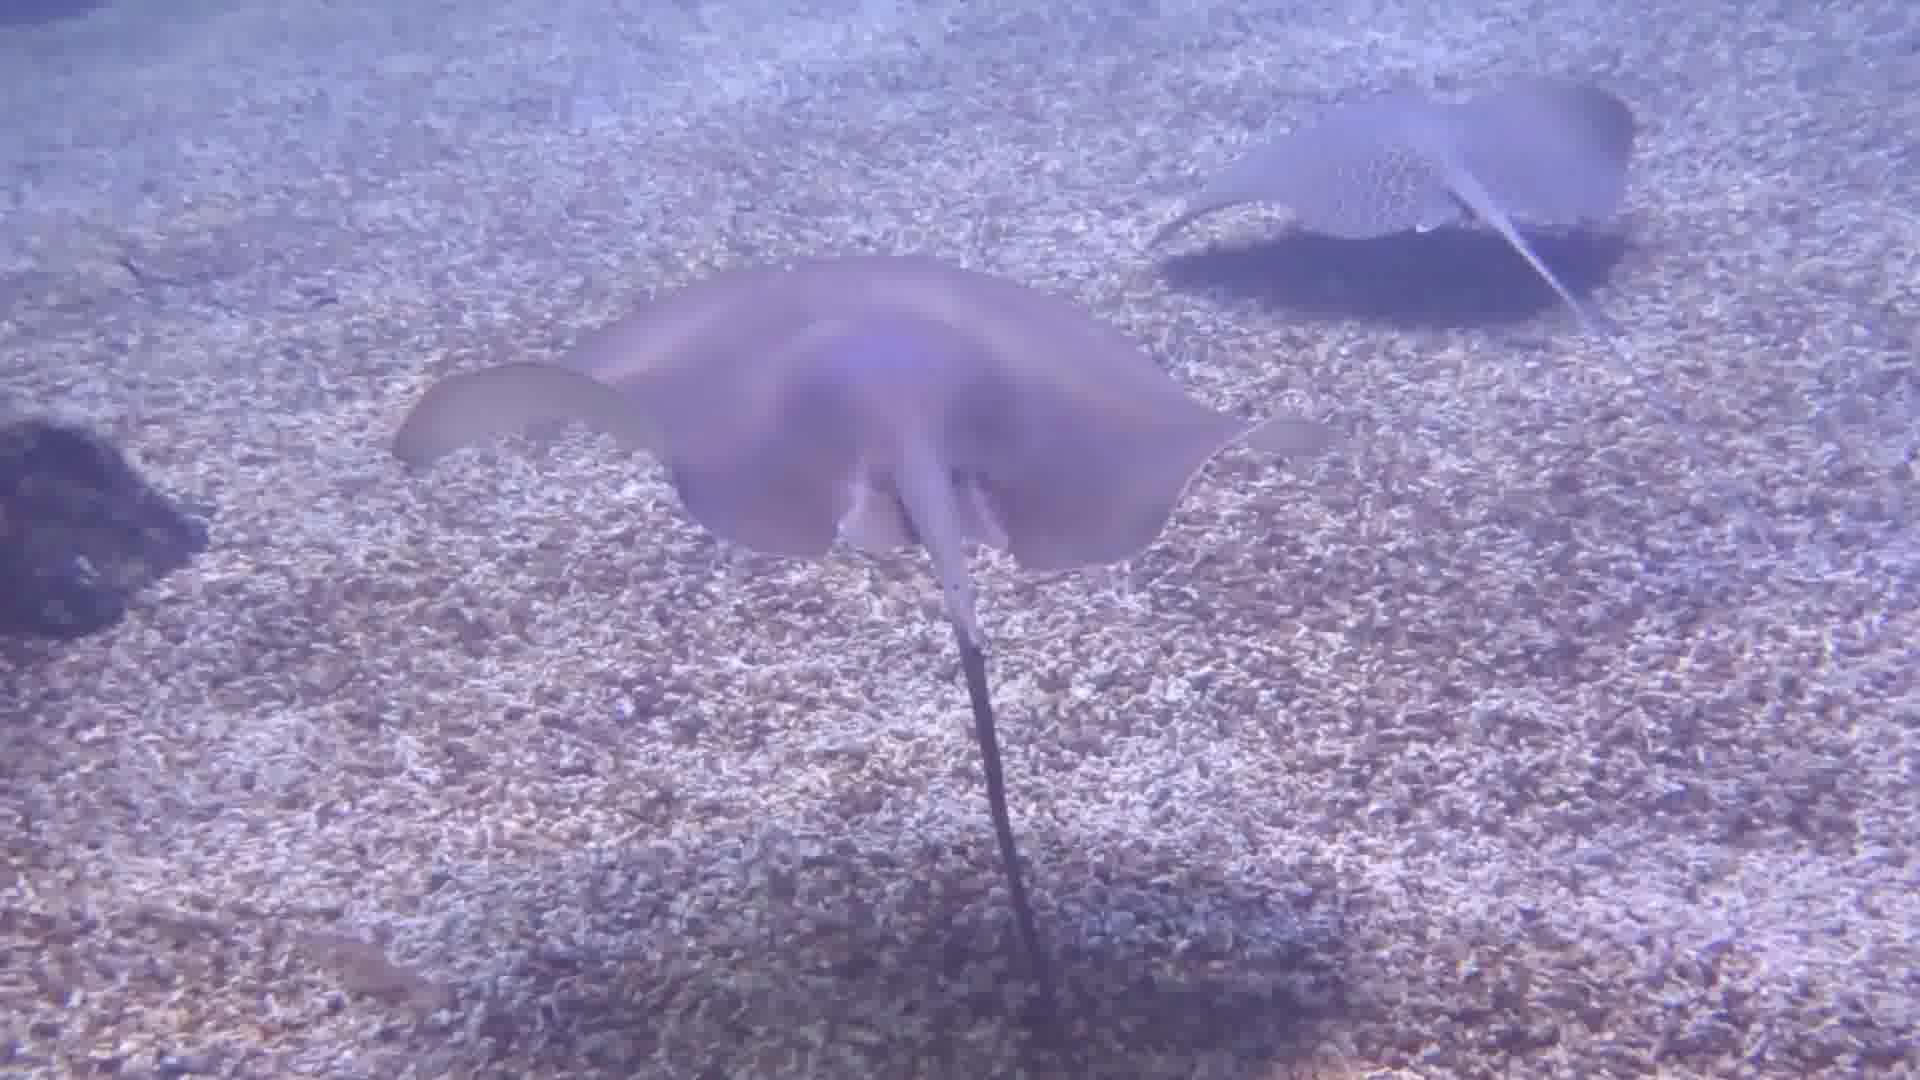Dasyatis akajei: (388, 251, 1336, 1080)
